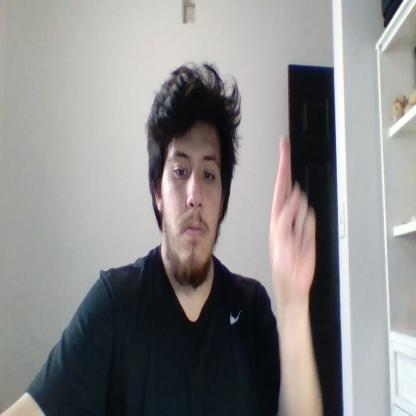R: (270, 132, 316, 292)
